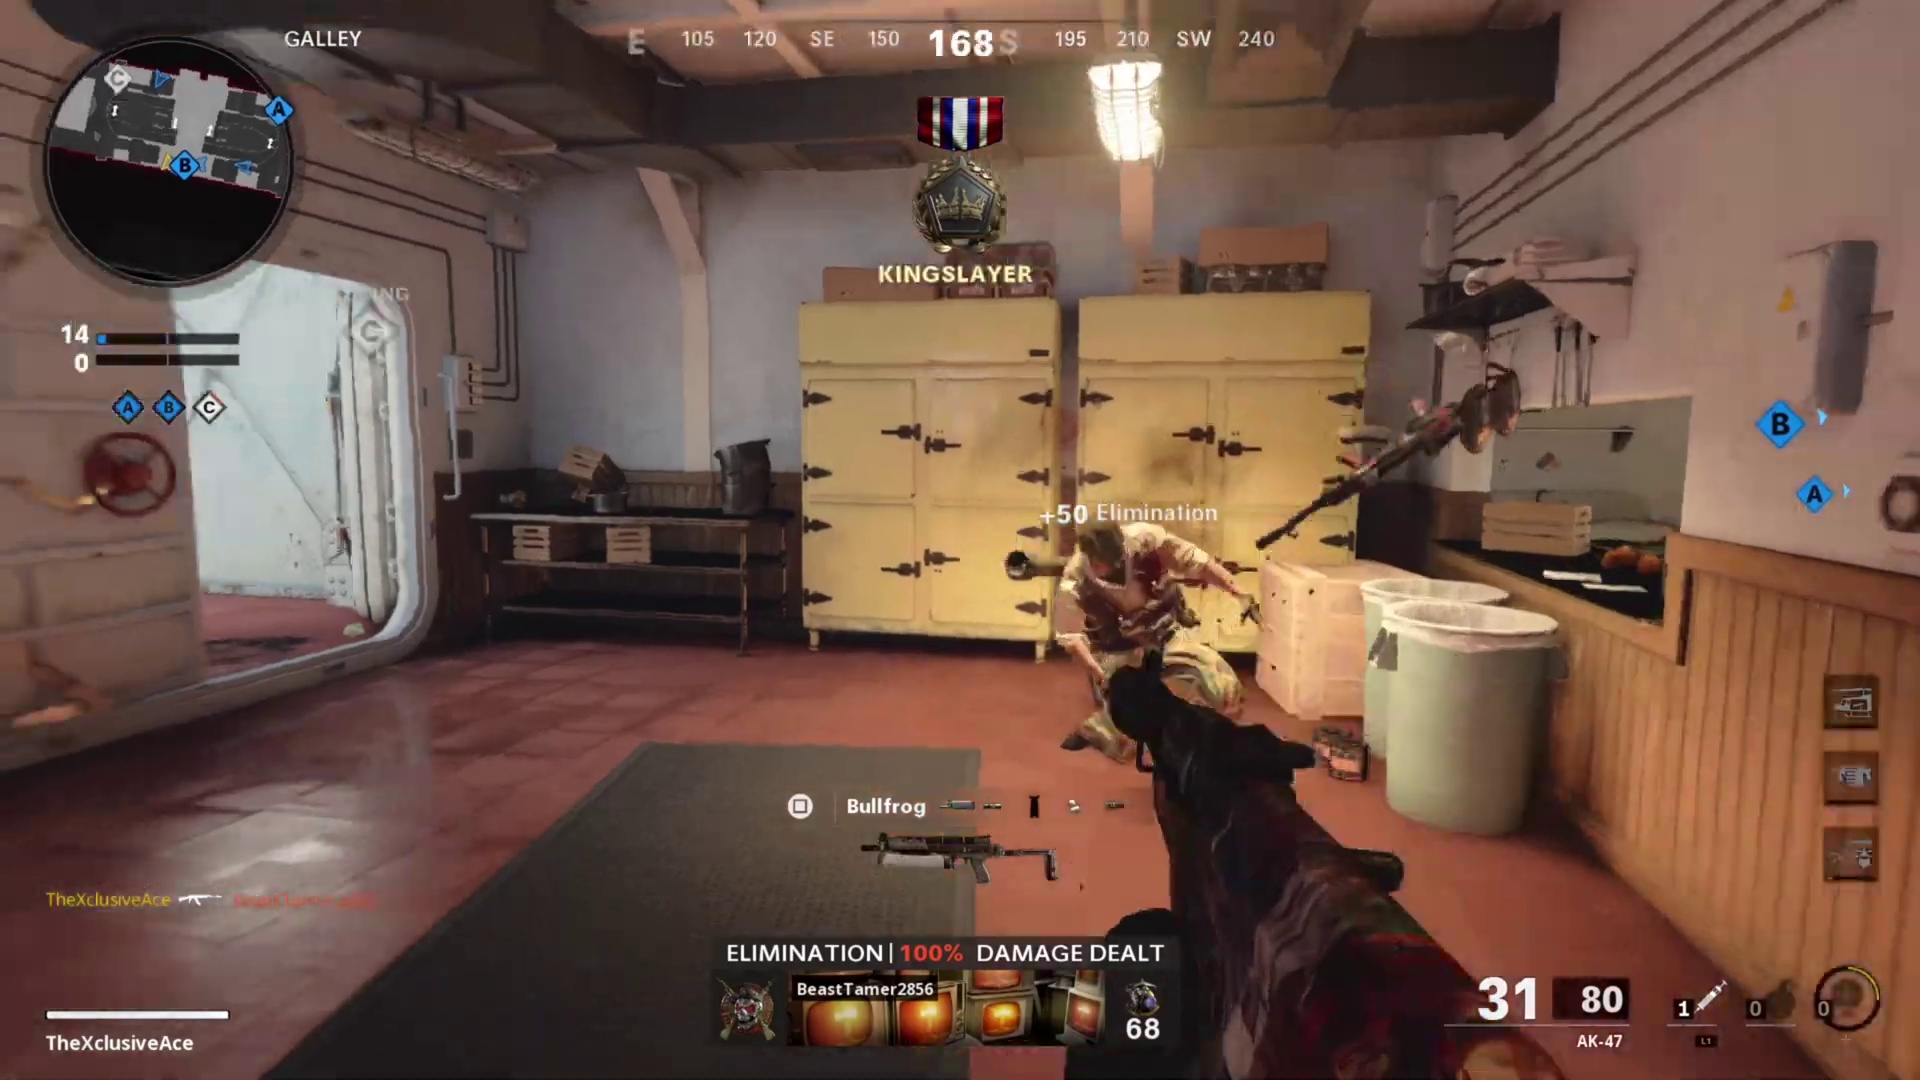head: (1455, 1028, 1556, 1080), (1076, 521, 1135, 592)
person: (1048, 520, 1256, 704)
